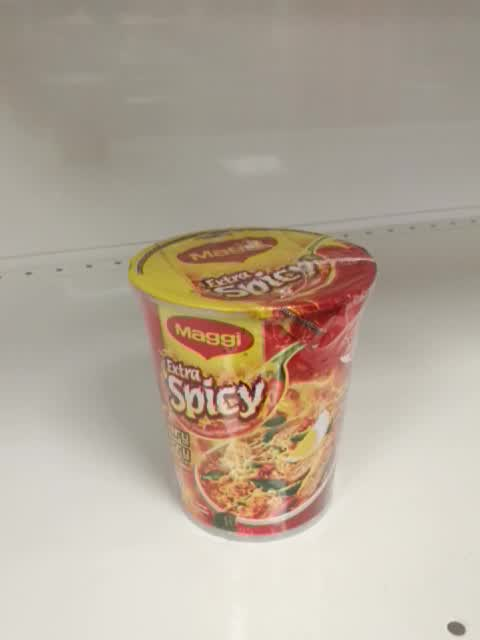maggi: (127, 226, 378, 544)
